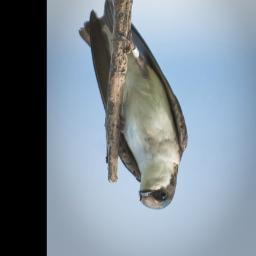Swallow: (77, 0, 188, 211)
